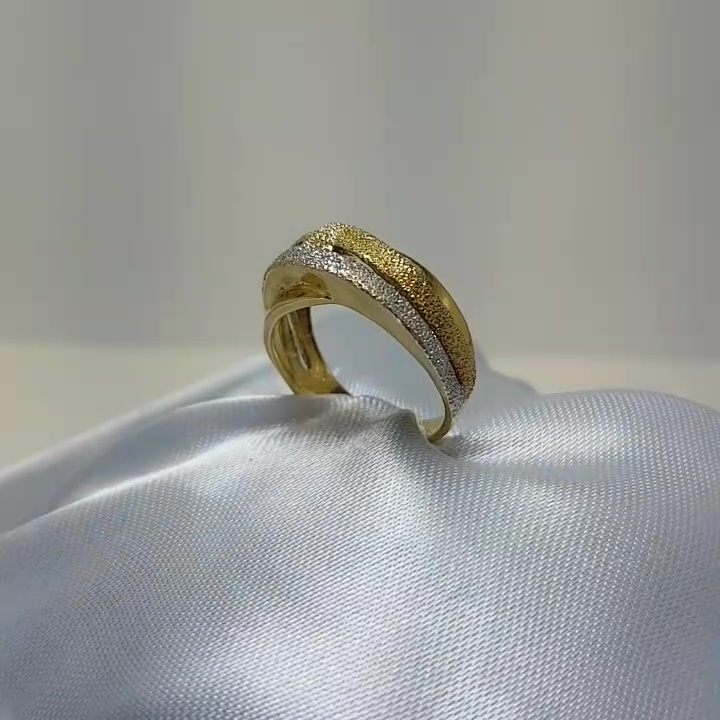Ring 5: (237, 188, 503, 468)
